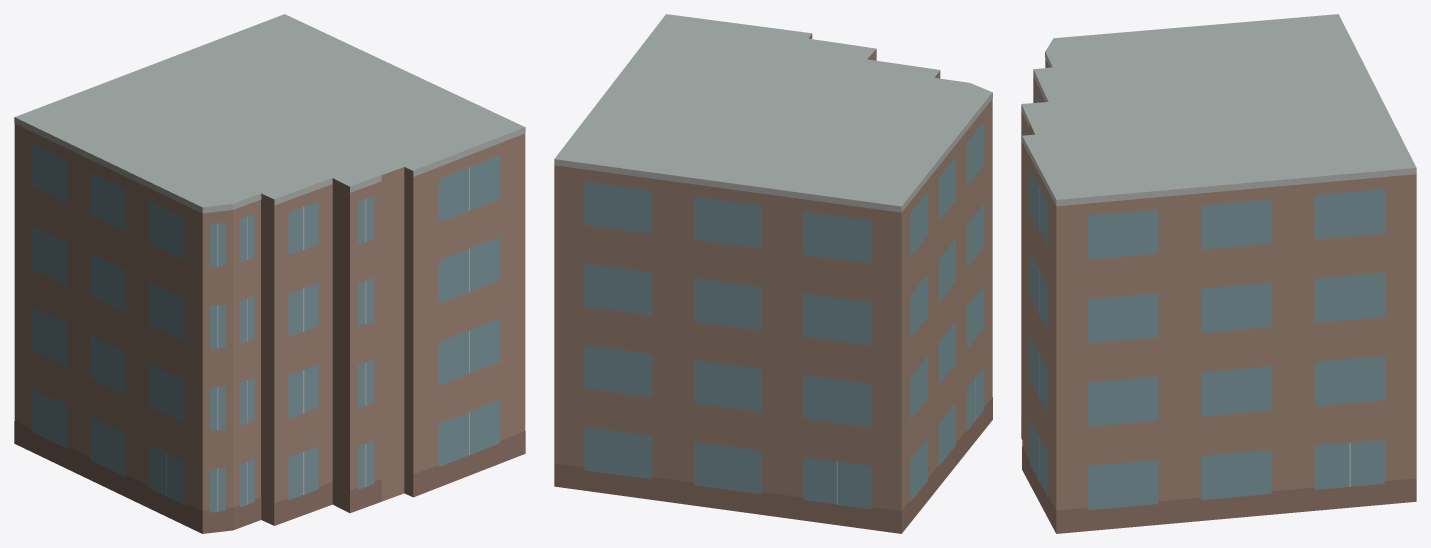
Rendered from survey-upis-32618692.glb.
3 views of the same model, side by side, from view 1: azimuth 30°, elevation 25°; view 2: azimuth 150°, elevation 25°; view 3: azimuth 270°, elevation 25° (orthographic). The views are drawn at different scales.
Parts seen in each view (by area): view 1: survey-upis-32618692.tmp; view 2: survey-upis-32618692.tmp; view 3: survey-upis-32618692.tmp.
Boxes of the visible parts, <box> form: survey-upis-32618692.tmp: <box>14,14,525,533</box>; survey-upis-32618692.tmp: <box>554,14,992,533</box>; survey-upis-32618692.tmp: <box>1021,14,1416,533</box>.
Size of the model in its own units: 15.55 by 13 by 13.96.
